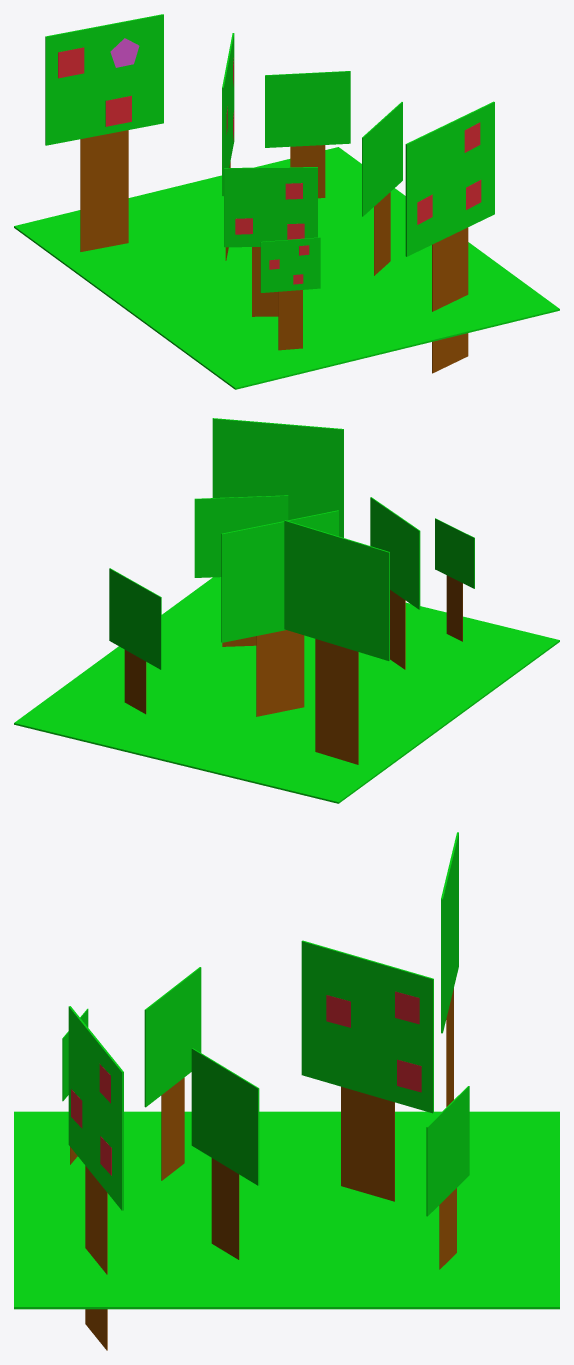
The model's file is Figuras04.glb.
3 renders of one model, top to bottom at view 1: azimuth 30°, elevation 25°; view 2: azimuth 150°, elevation 25°; view 3: azimuth 270°, elevation 25°, orthographic. The views are drawn at different scales.
Visible parts, largest first — view 1: Plane.019, Plane.025, Plane.022, Plane.018, Plane.020, Plane.021, Plane.024, Plane.032, Hexagono; view 2: Plane.019, Plane.025, Plane.032, Plane.022, Plane.020, Plane.024, Plane.018, Plane.021; view 3: Plane.019, Plane.032, Plane.022, Plane.024, Plane.018, Plane.020, Plane.025, Plane.021.
Boxes of the visible parts, x1,y1,x2,y2 form: Plane.019: (14,147,559,389); Plane.025: (45,14,163,251); Plane.022: (405,101,494,373); Plane.018: (224,167,317,316); Plane.020: (265,71,350,198); Plane.021: (260,237,320,350); Plane.024: (362,102,402,275); Plane.032: (222,33,234,260); Hexagono: (110,38,139,67); Plane.019: (14,577,559,803); Plane.025: (284,520,389,764); Plane.032: (221,510,338,716); Plane.022: (212,418,343,537); Plane.020: (109,568,161,714); Plane.024: (194,495,288,646); Plane.018: (370,497,420,669); Plane.021: (435,518,474,641); Plane.019: (14,1111,559,1309); Plane.032: (301,940,433,1201); Plane.022: (68,1006,123,1350); Plane.024: (191,1048,259,1259); Plane.018: (144,967,201,1180); Plane.020: (426,1086,469,1269); Plane.025: (441,832,458,1106); Plane.021: (62,1008,88,1164).
Size of the model in its own units: 5.94 by 4.81 by 6.81.
